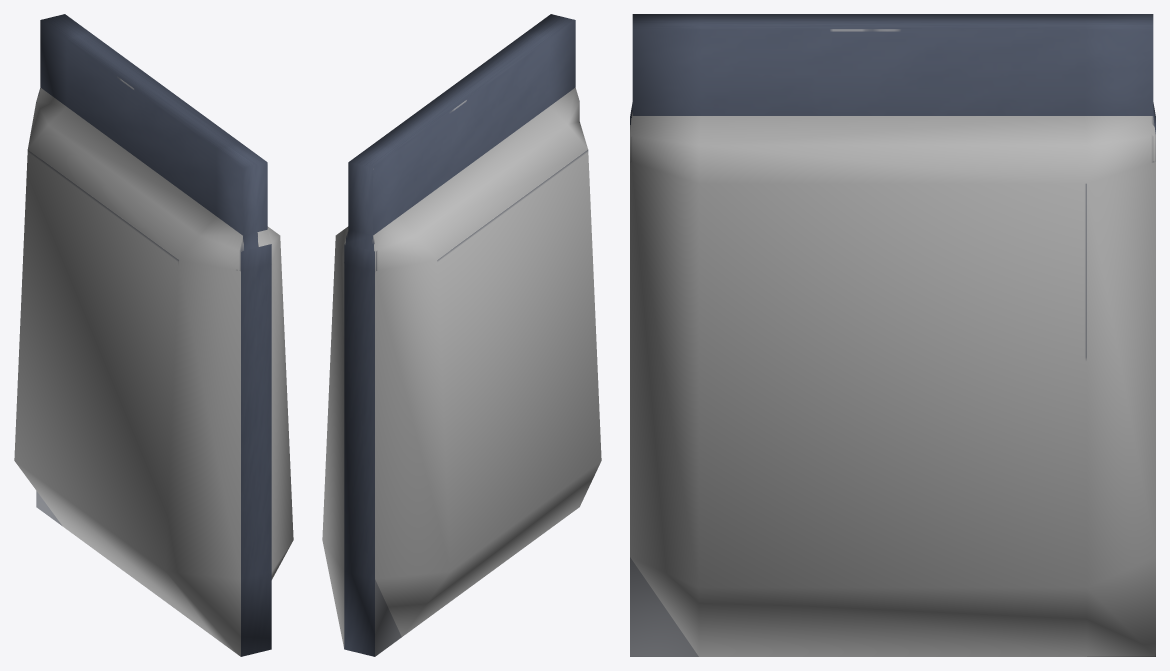
File: Item_Pochon.fbx
3 views of the same model, side by side, from view 1: azimuth 30°, elevation 25°; view 2: azimuth 150°, elevation 25°; view 3: azimuth 270°, elevation 25° (orthographic). The views are drawn at different scales.
Visible parts, largest first — view 1: Item_Pochon; view 2: Item_Pochon; view 3: Item_Pochon.
Boxes of the visible parts, box(x1,y1,x2,y2) form: Item_Pochon: box(14, 14, 293, 656); Item_Pochon: box(322, 14, 601, 656); Item_Pochon: box(630, 14, 1155, 656).
Bounding box in the file's own units: 13.98 × 50.76 × 38.68.
